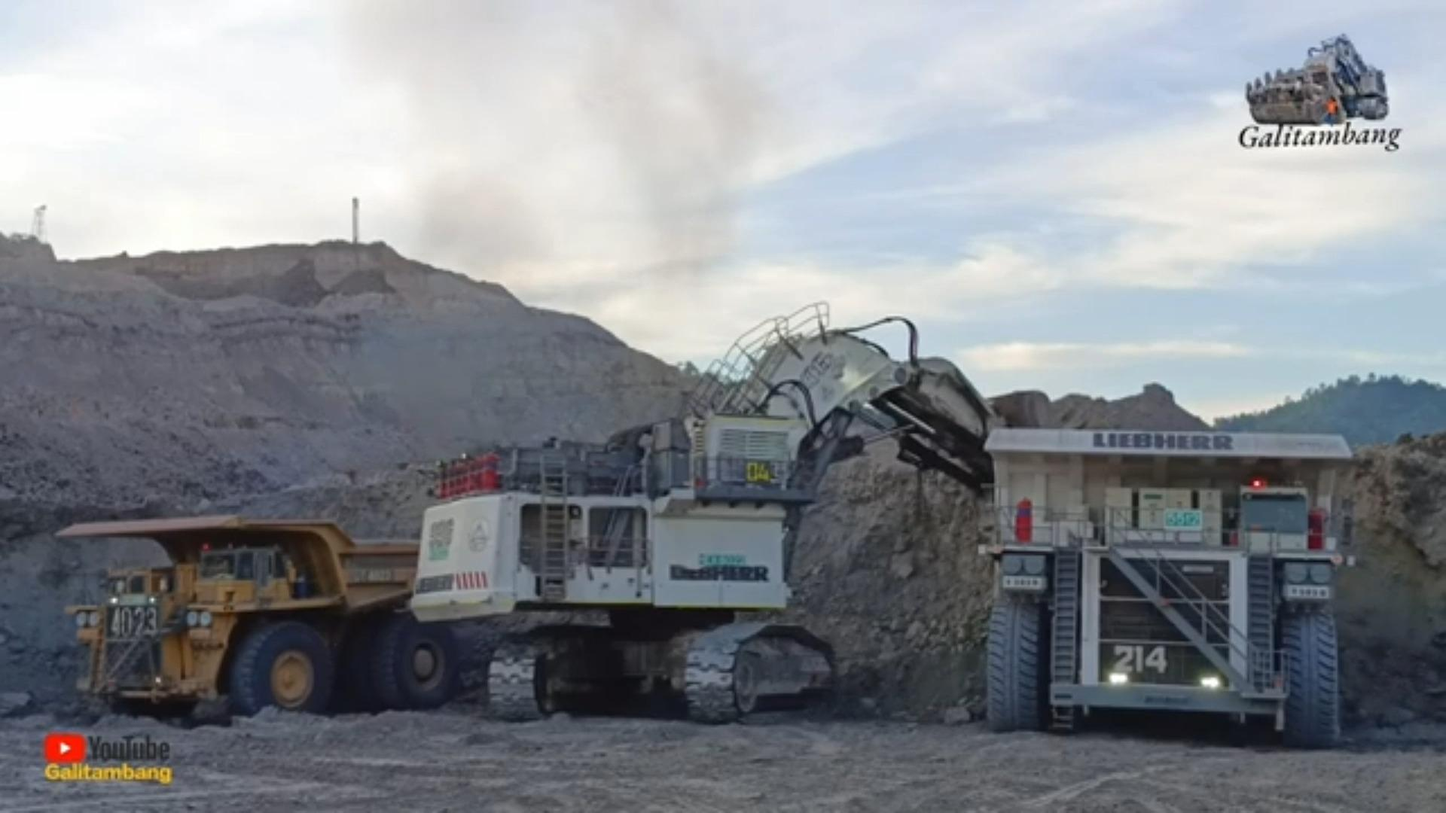Excavator: (409, 311, 1007, 724)
HD-Truck: (978, 427, 1355, 748), (56, 515, 460, 717)
